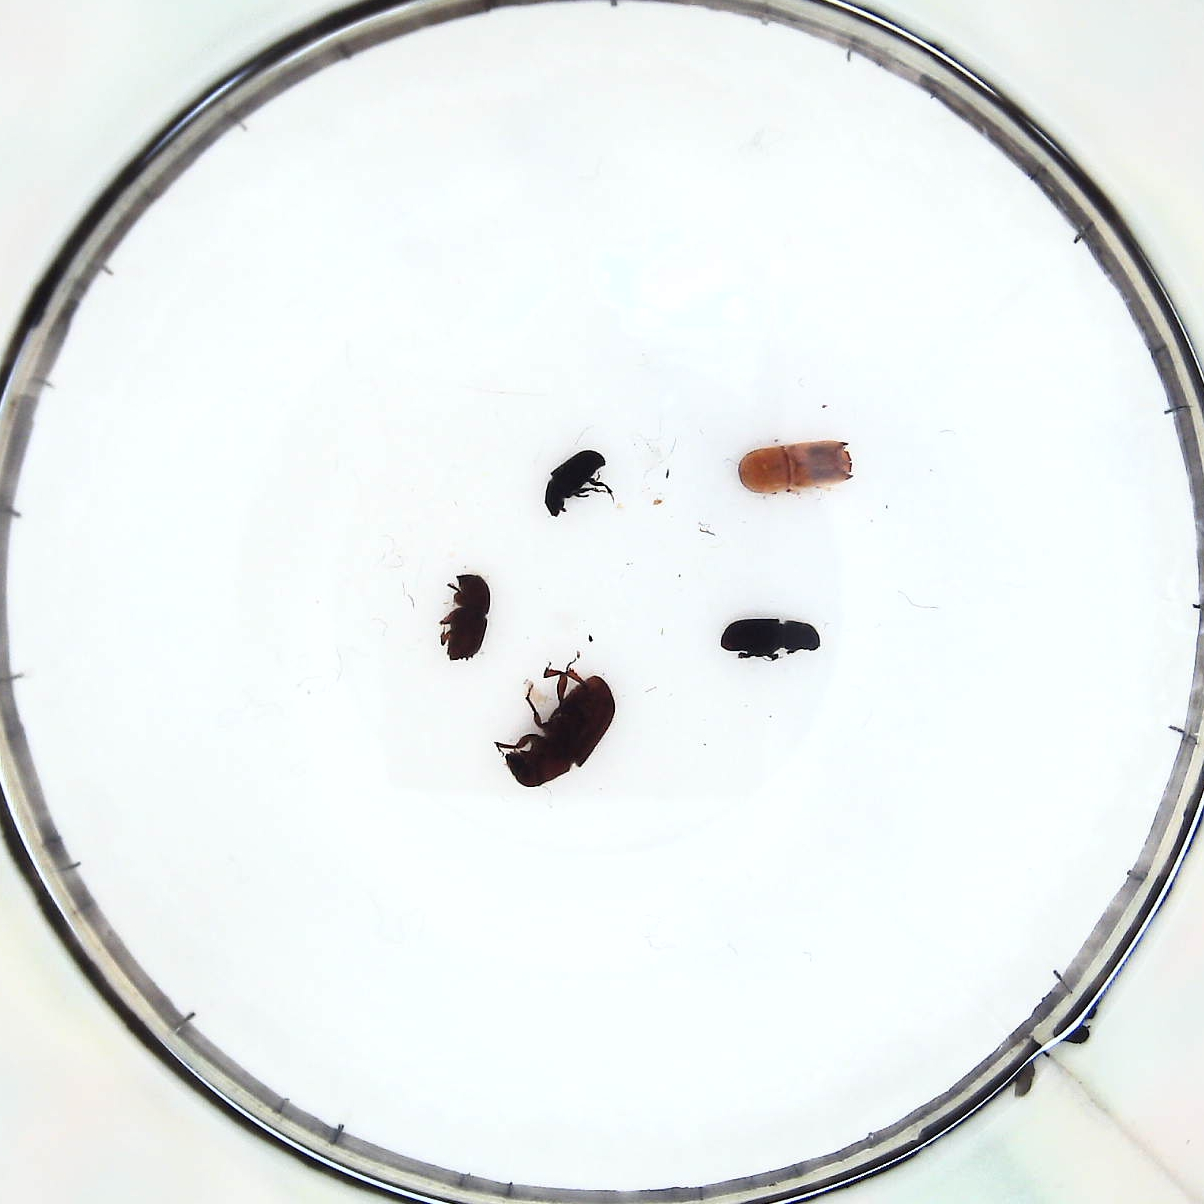Boerner: (737, 442, 858, 497)
Leconte: (498, 676, 615, 789)
Linnaeus: (440, 576, 488, 660)
armandi: (718, 610, 821, 666)
coleoptera: (537, 445, 609, 519)
